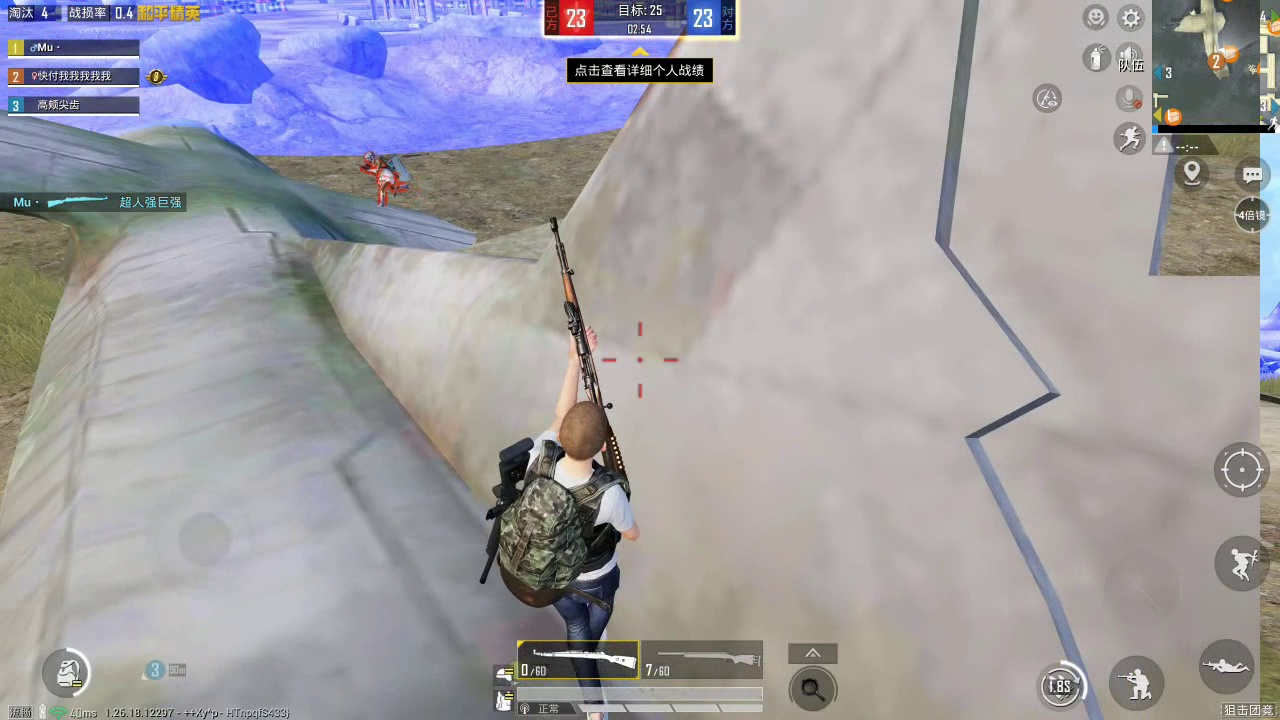enemy: (360, 149, 409, 208)
